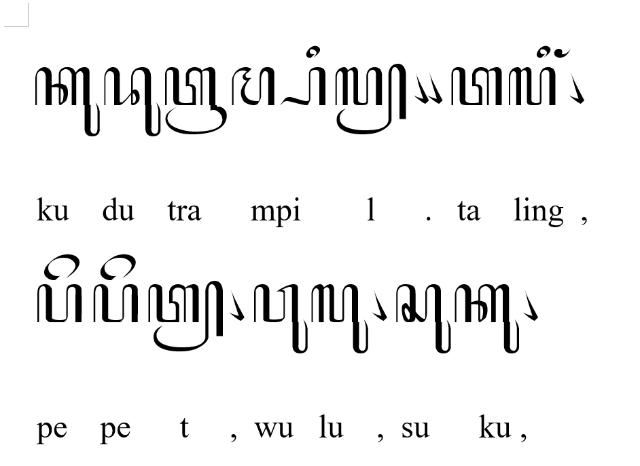-l: (335, 62, 407, 136)
-t: (148, 280, 225, 352)
_p: (280, 66, 326, 108)
du: (105, 66, 162, 138)
e: (100, 253, 136, 281), (44, 254, 80, 280)
i: (307, 46, 321, 58), (537, 46, 551, 58)
kom: (568, 72, 584, 104), (228, 290, 244, 321), (371, 290, 387, 321), (413, 74, 429, 104), (428, 74, 442, 104), (524, 292, 538, 322)
ku: (34, 66, 102, 138), (454, 284, 520, 354)
l: (508, 68, 556, 106)
lu: (311, 284, 369, 354)
m: (232, 66, 274, 106)
ng: (554, 48, 572, 58)
p: (36, 283, 82, 323), (93, 283, 139, 323)
su: (396, 284, 452, 354)
t: (451, 67, 504, 107)
tr: (165, 66, 228, 136)
wu: (254, 284, 308, 354)
